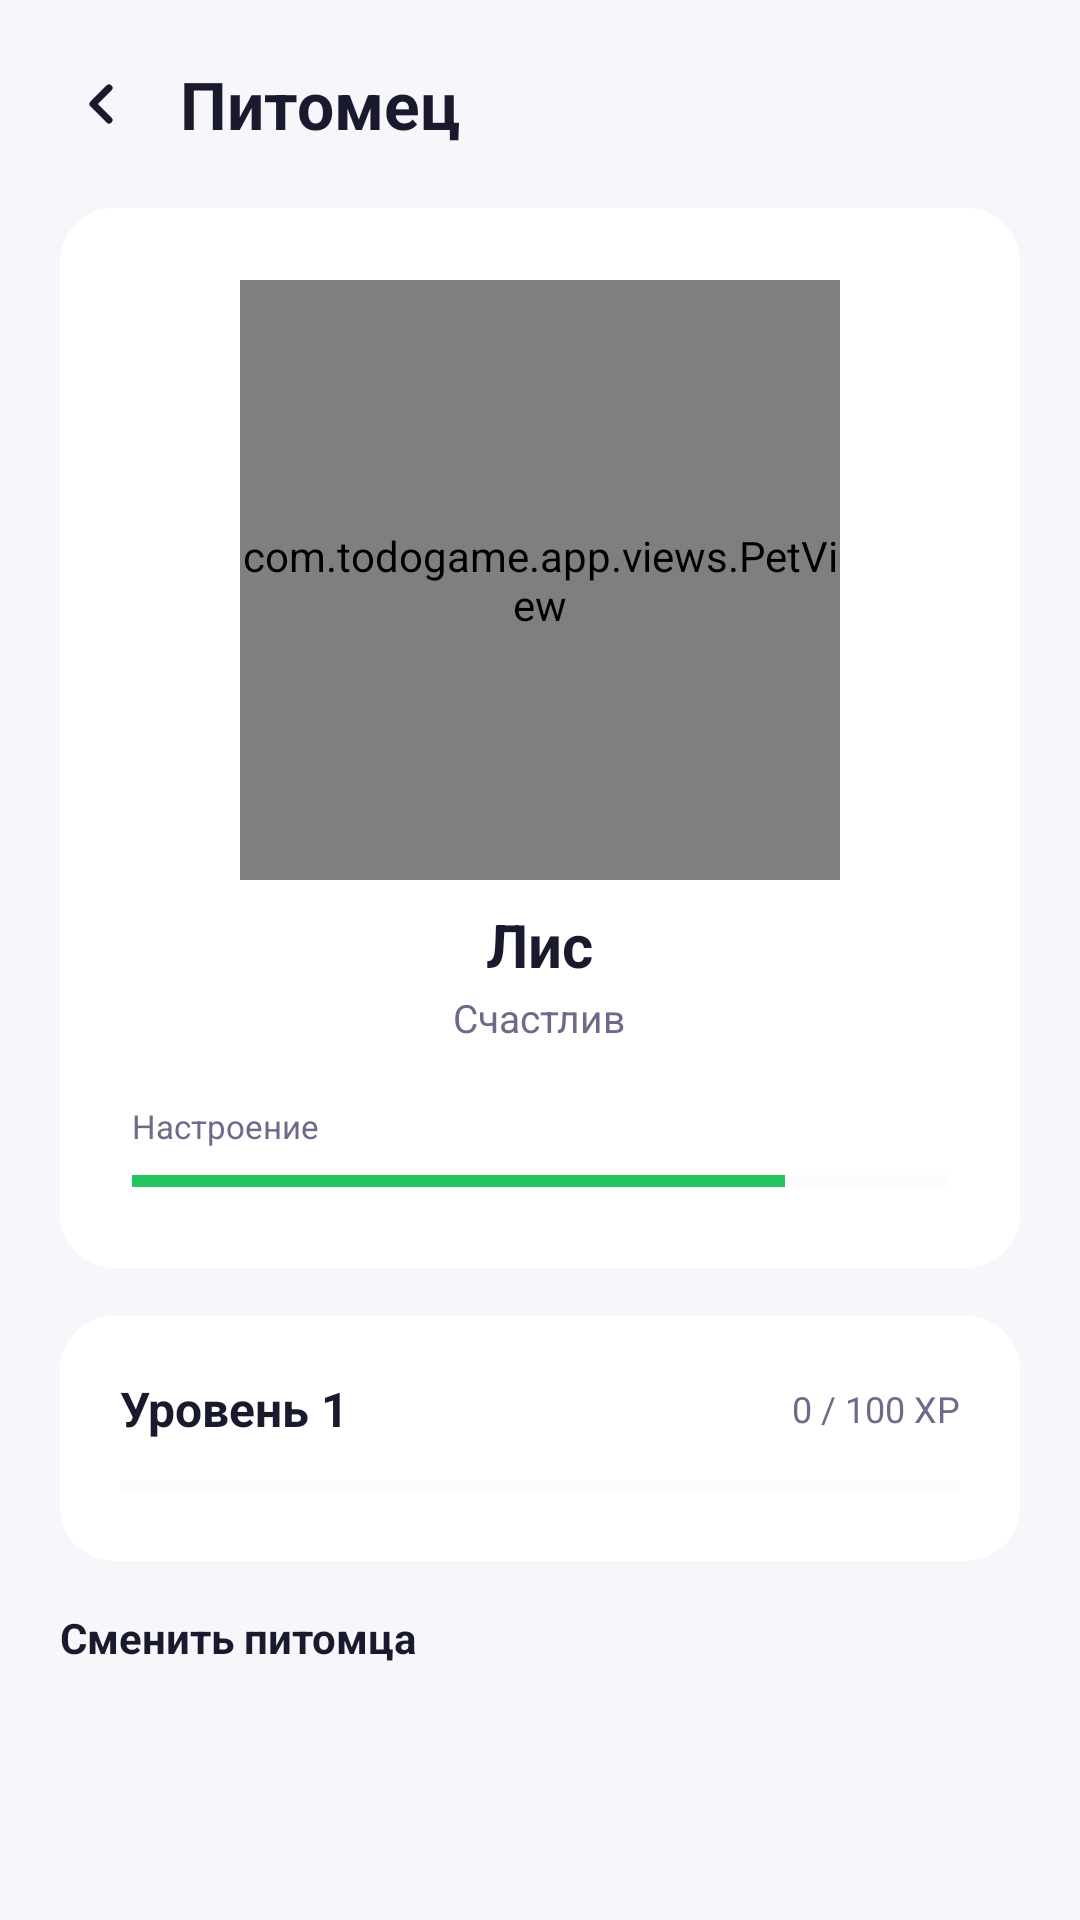

Named icons in this screenshot (1080 x 1920) and their bounding boxes, (x1, y1, x2, y2):
back: (89, 84, 113, 124)
